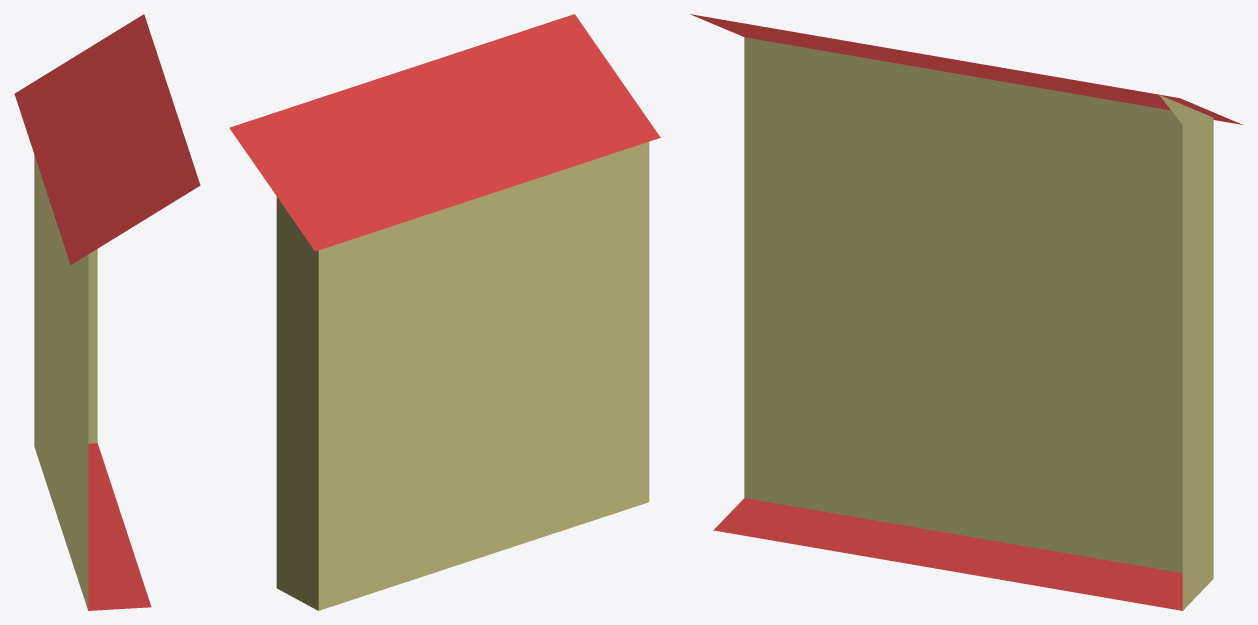
3 views of the same model, side by side, from view 1: azimuth 30°, elevation 25°; view 2: azimuth 150°, elevation 25°; view 3: azimuth 270°, elevation 25° (orthographic). The views are drawn at different scales.
Bounding box in the file's own units: 3.88 × 6.04 × 6.51.
